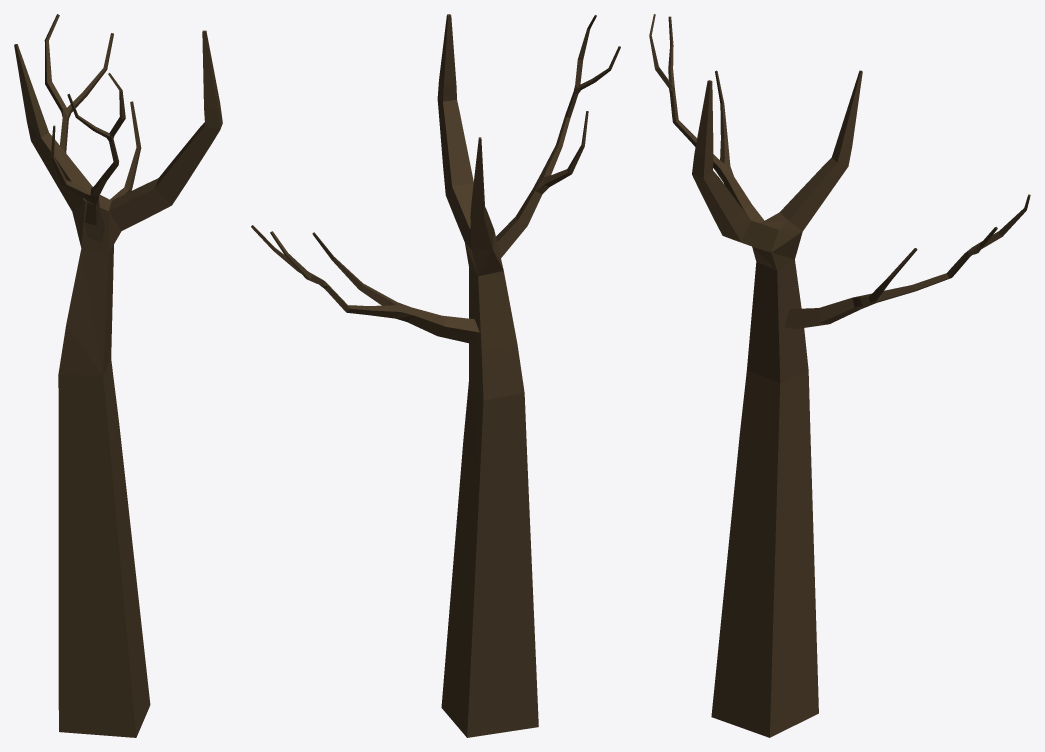
Rendered from tree6.glb.
The picture shows the model from 3 angles, left to right: view 1: azimuth 30°, elevation 25°; view 2: azimuth 150°, elevation 25°; view 3: azimuth 270°, elevation 25°; orthographic projection. The views are drawn at different scales.
Visible parts, largest first — view 1: Tree2_2; view 2: Tree2_2; view 3: Tree2_2.
Part boxes in pixels (<box>): Tree2_2: <box>14,14,222,737</box>; Tree2_2: <box>251,14,620,737</box>; Tree2_2: <box>649,14,1030,737</box>.
Bounding box in the file's own units: 2.27 × 7.05 × 3.6.
